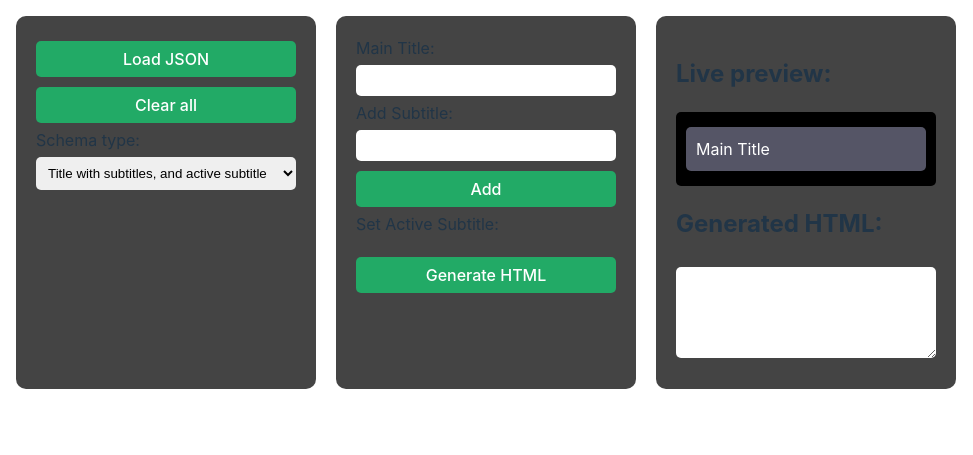
SchemaForm › removes a subtitle
In the field labelled "Add Subtitle:": (486, 146) x1=356 y1=130 x2=616 y2=161, type "Lesson 2"
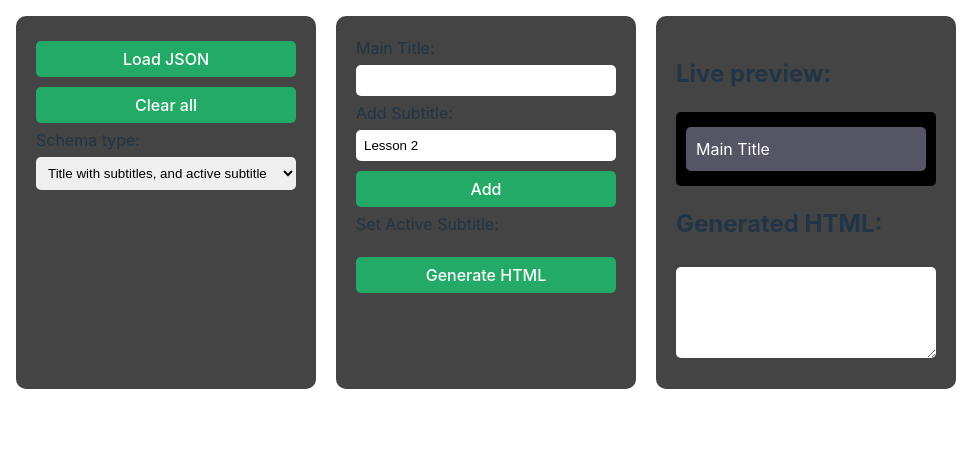
Click the button "Add": (486, 189) x1=356 y1=171 x2=616 y2=207
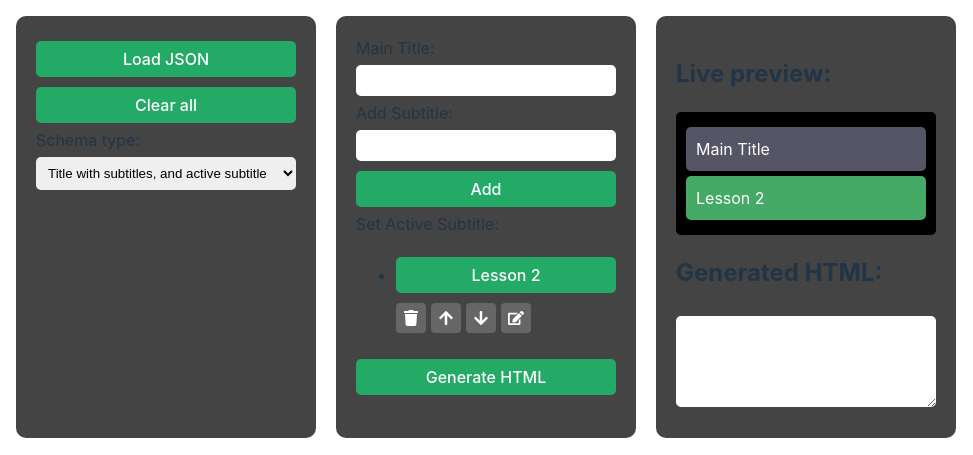
Click the button named "remove": (411, 318) x1=396 y1=303 x2=426 y2=333
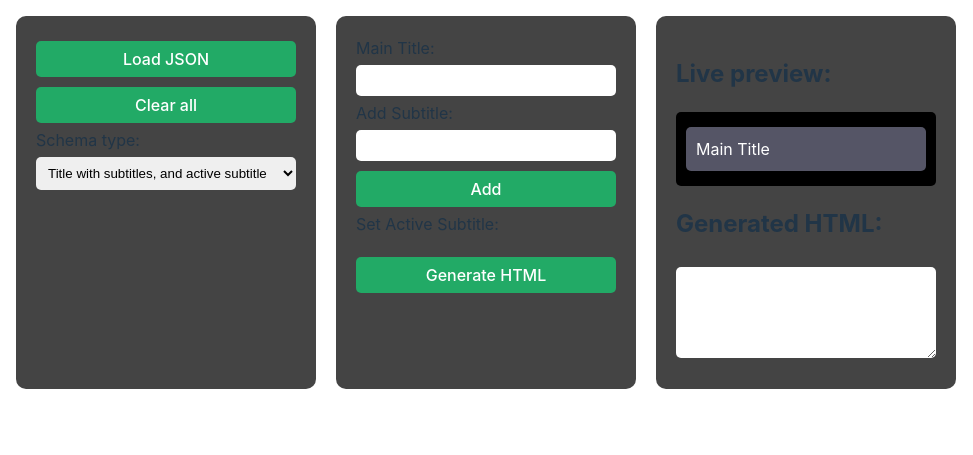
Expected: the button "Lesson 2" is gone
